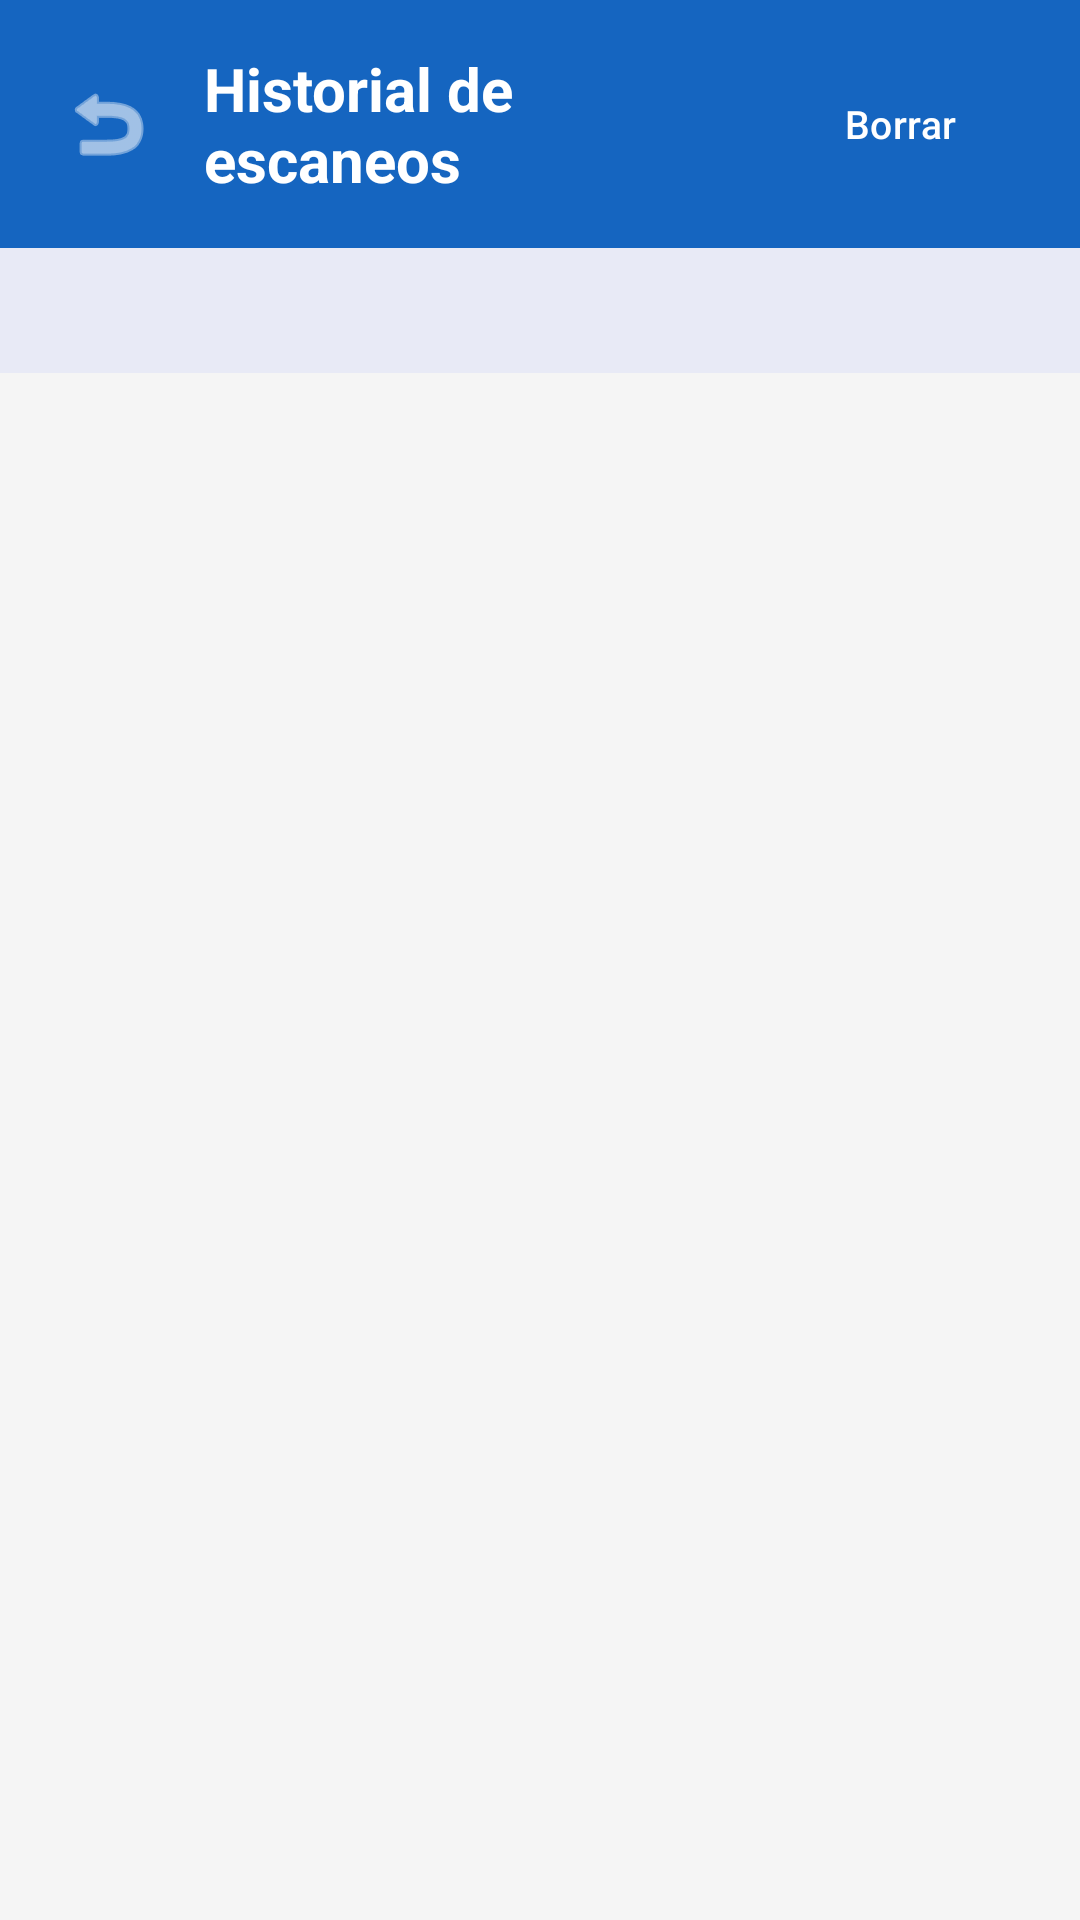

Icons on this 1080 × 1920 Android screen, each with the point to tap as (x,y):
Volver: (109,124)
